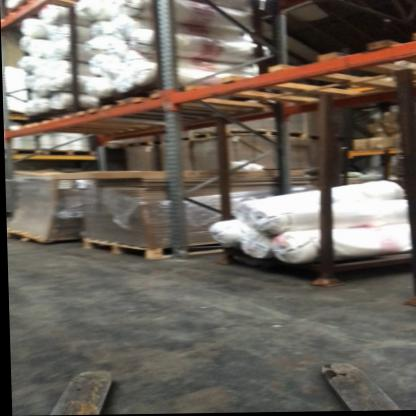vertical_damage: (164, 242, 196, 262)
